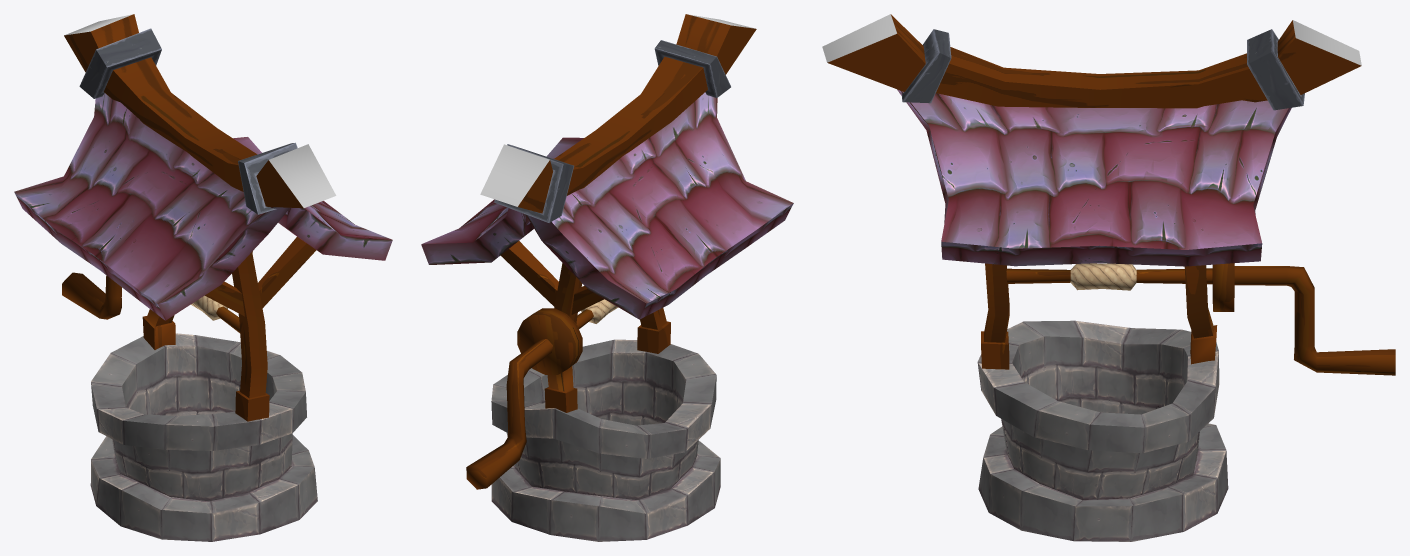
Rendered from SM_PROP_well.fbx.
The picture shows the model from 3 angles, left to right: view 1: azimuth 30°, elevation 25°; view 2: azimuth 150°, elevation 25°; view 3: azimuth 270°, elevation 25°; orthographic projection. The views are drawn at different scales.
Visible parts, largest first — view 1: SM_PROP_well, SM_PROP_well_handle; view 2: SM_PROP_well, SM_PROP_well_handle; view 3: SM_PROP_well, SM_PROP_well_handle.
Part boxes in pixels (<box>): SM_PROP_well: <box>14,14,392,541</box>; SM_PROP_well_handle: <box>62,272,240,333</box>; SM_PROP_well: <box>421,14,793,541</box>; SM_PROP_well_handle: <box>466,299,618,489</box>; SM_PROP_well: <box>822,14,1361,541</box>; SM_PROP_well_handle: <box>1006,263,1395,375</box>.
Size of the model in its own units: 250 by 424 by 476.
